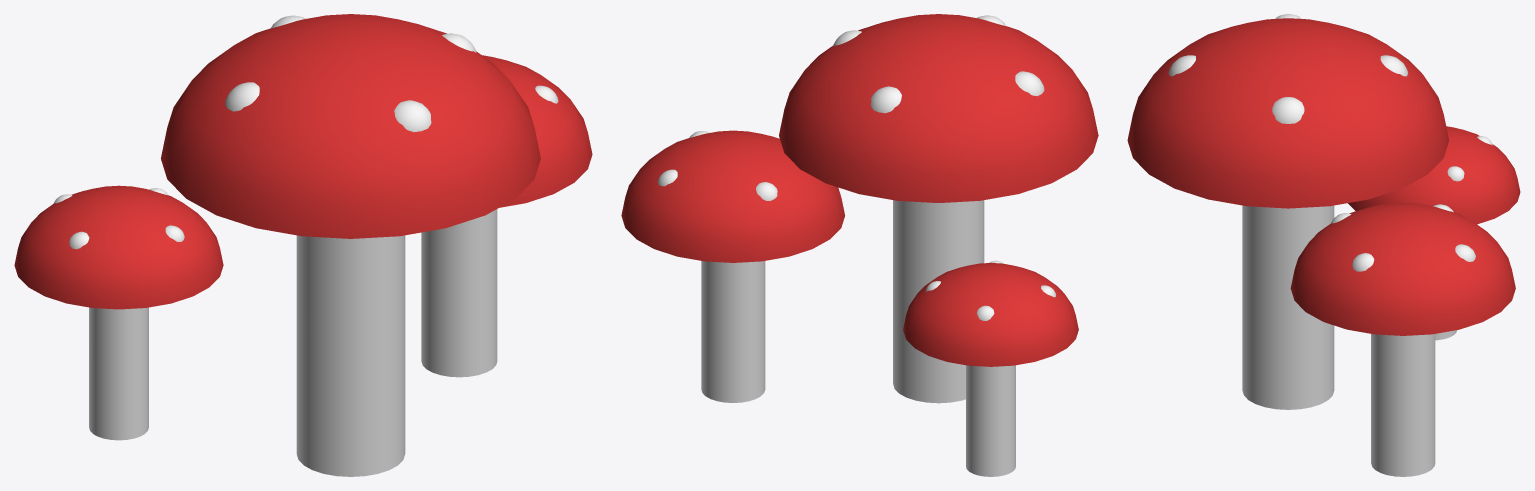
File: SM_Oyet.fbx
The picture shows the model from 3 angles, left to right: view 1: azimuth 30°, elevation 25°; view 2: azimuth 150°, elevation 25°; view 3: azimuth 270°, elevation 25°; orthographic projection. The views are drawn at different scales.
Parts seen in each view (by area): view 1: SM_Oyet; view 2: SM_Oyet; view 3: SM_Oyet.
Part boxes in pixels (x1,y1,x2,y2): SM_Oyet: (14, 14, 592, 476); SM_Oyet: (621, 14, 1098, 476); SM_Oyet: (1127, 14, 1520, 476).
Bounding box in the file's own units: 0.0684 × 0.09 × 0.0676.
